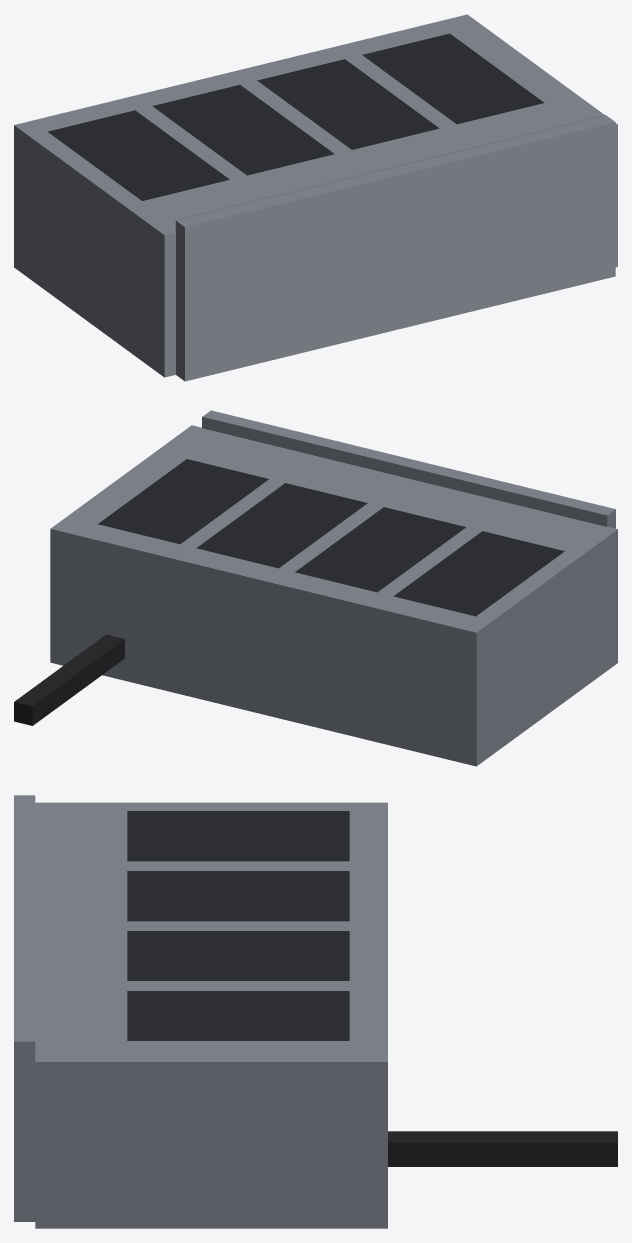
Rendered from bank_wall_premium_c0_S.obj.
3 renders of one model, top to bottom at view 1: azimuth 30°, elevation 25°; view 2: azimuth 150°, elevation 25°; view 3: azimuth 270°, elevation 25°, orthographic. The views are drawn at different scales.
Parts seen in each view (by area): view 1: bank_wall_premium_c0_S; view 2: bank_wall_premium_c0_S; view 3: bank_wall_premium_c0_S.
Boxes of the visible parts, x1,y1,x2,y2 form: bank_wall_premium_c0_S: [14, 14, 617, 381]; bank_wall_premium_c0_S: [14, 410, 617, 766]; bank_wall_premium_c0_S: [14, 795, 617, 1228].
Size of the model in its own units: 0.8 by 0.2635 by 0.788.
1 material, 1 textured.
